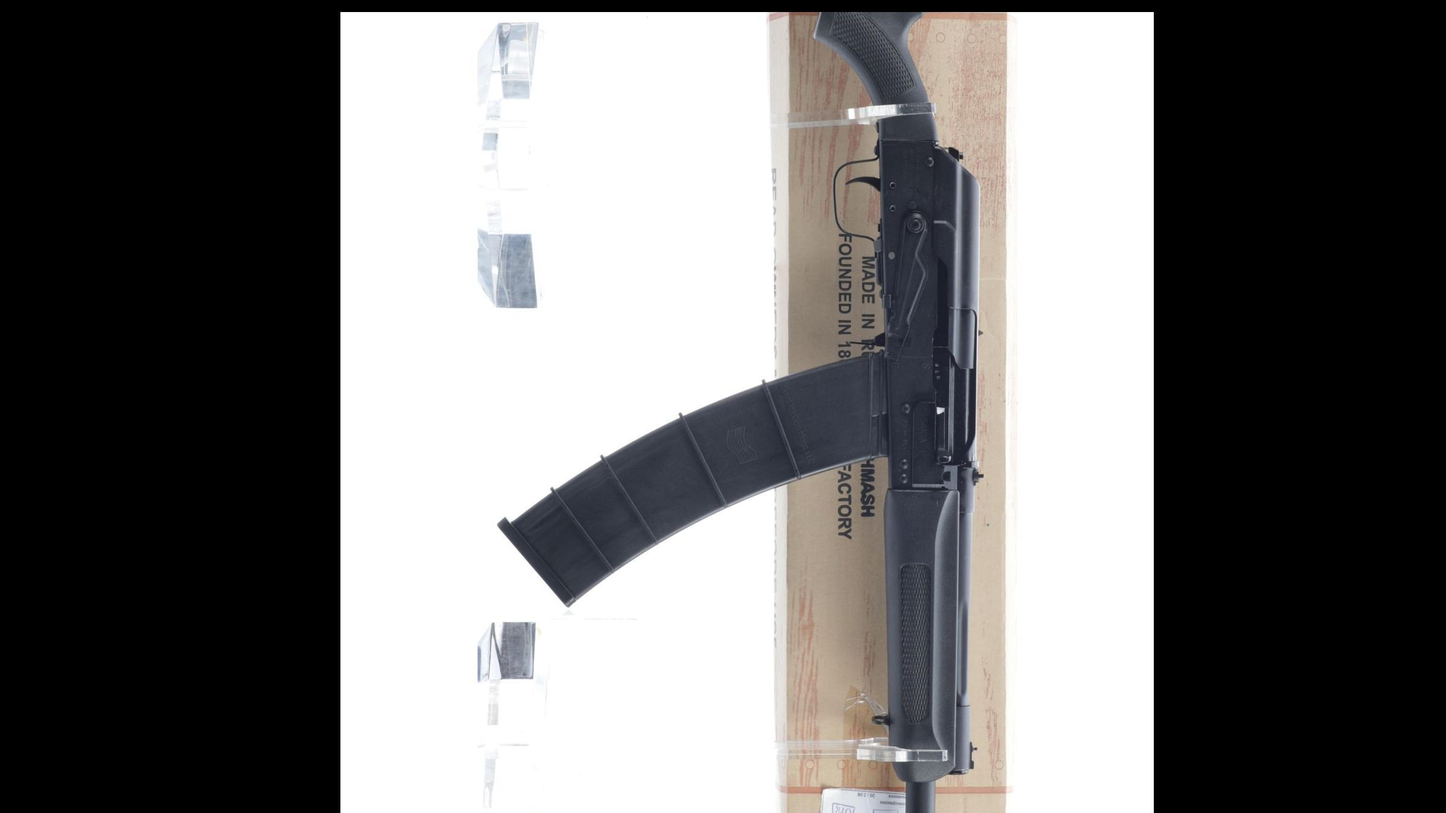larga: (497, 14, 986, 813)
